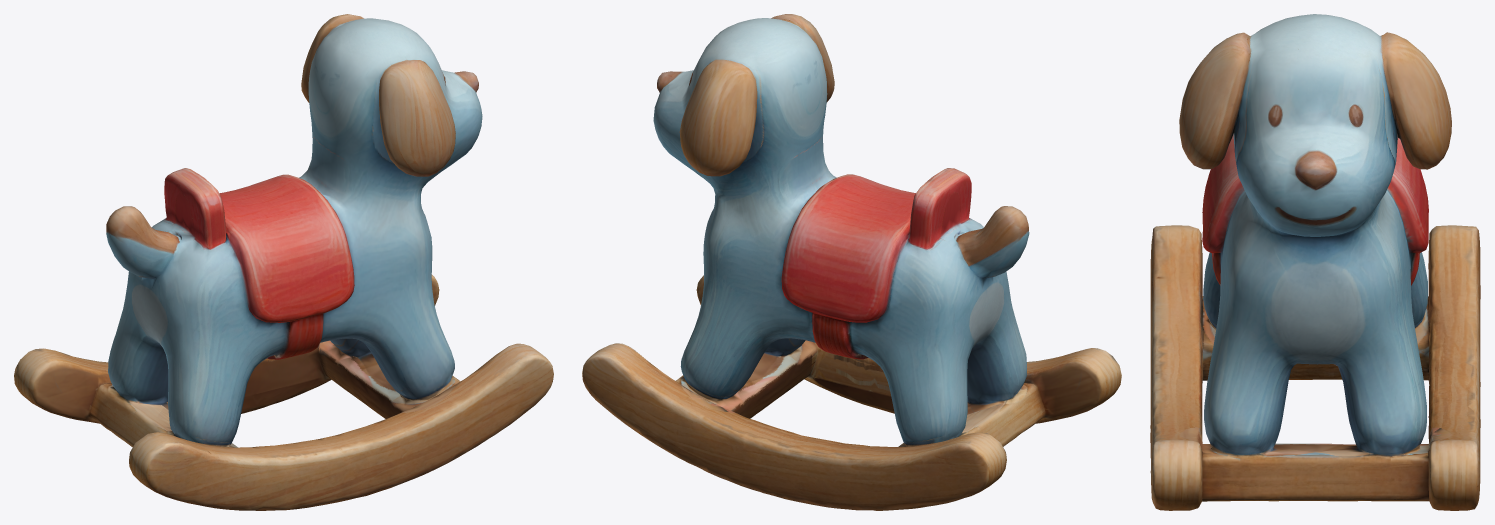
File: P_DecorRocker_h80.fbx
The picture shows the model from 3 angles, left to right: view 1: azimuth 30°, elevation 25°; view 2: azimuth 150°, elevation 25°; view 3: azimuth 270°, elevation 25°; orthographic projection. The views are drawn at different scales.
Parts seen in each view (by area): view 1: texture_mapping; view 2: texture_mapping; view 3: texture_mapping.
Boxes of the visible parts, <box> form: texture_mapping: <box>14,14,553,510</box>; texture_mapping: <box>582,14,1121,510</box>; texture_mapping: <box>1150,14,1480,510</box>.
Size of the model in its own units: 1 by 0.5744 by 0.9442.
1 material, 1 textured.
